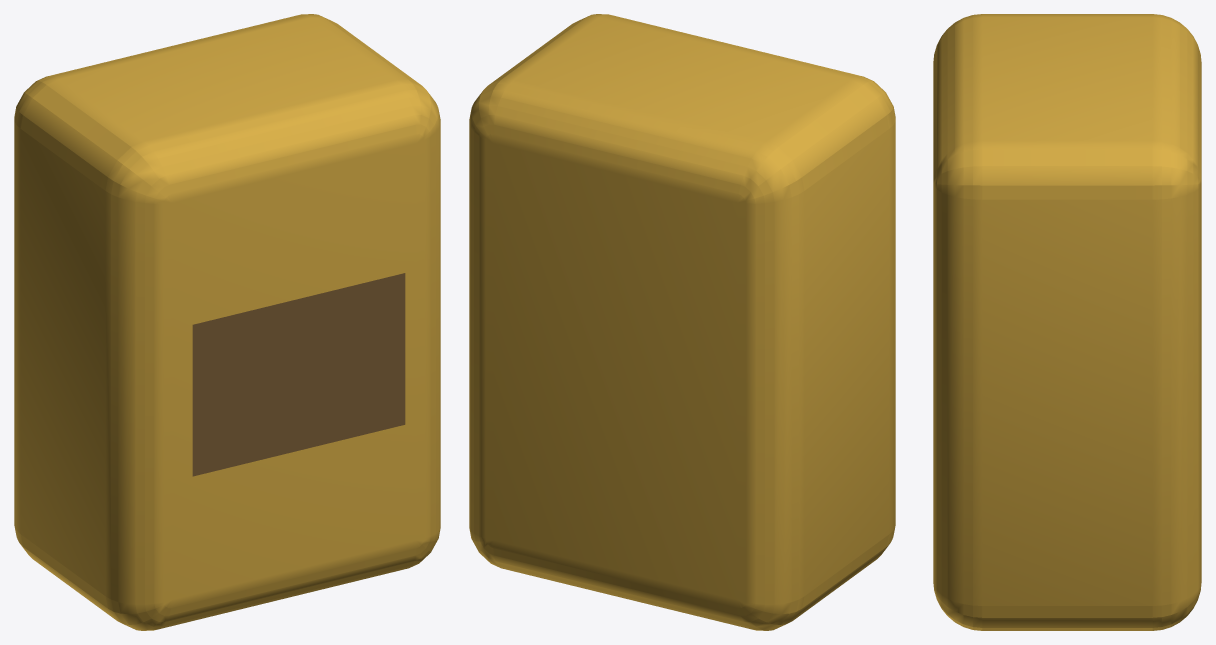
Rendered from product-wheat.glb.
3 renders of one model, left to right at view 1: azimuth 30°, elevation 25°; view 2: azimuth 150°, elevation 25°; view 3: azimuth 270°, elevation 25°, orthographic.
Parts seen in each view (by area): view 1: n3, n4; view 2: n3; view 3: n3.
Boxes of the visible parts, box(x1,y1,x2,y2) form: n3: box(14, 14, 440, 630); n4: box(192, 273, 405, 476); n3: box(469, 14, 895, 630); n3: box(933, 14, 1201, 630).
Size of the model in its own units: 0.17 by 0.24 by 0.124.
